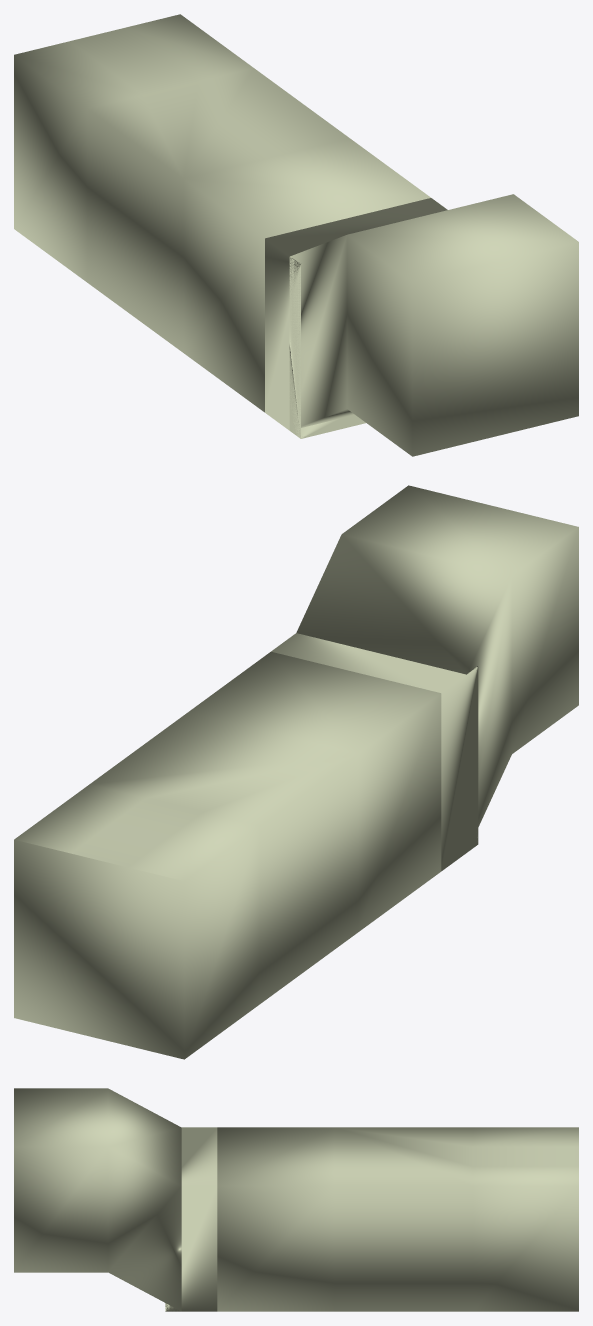
3 renders of one model, top to bottom at view 1: azimuth 30°, elevation 25°; view 2: azimuth 150°, elevation 25°; view 3: azimuth 270°, elevation 25°, orthographic. The views are drawn at different scales.
Visible parts, largest first — view 1: Cube2, Cube2_extract3; view 2: Cube2, Cube2_extract3; view 3: Cube2, Cube2_extract3.
Boxes of the visible parts, left/top/right/bottom form: Cube2: left=14, top=14, right=430, bottom=412; Cube2_extract3: left=265, top=194, right=578, bottom=456; Cube2: left=14, top=651, right=441, bottom=1059; Cube2_extract3: left=271, top=485, right=578, bottom=871; Cube2: left=217, top=1127, right=578, bottom=1311; Cube2_extract3: left=14, top=1088, right=217, bottom=1311.
Bounding box in the file's own units: 2.08 × 2.66 × 8.16.
